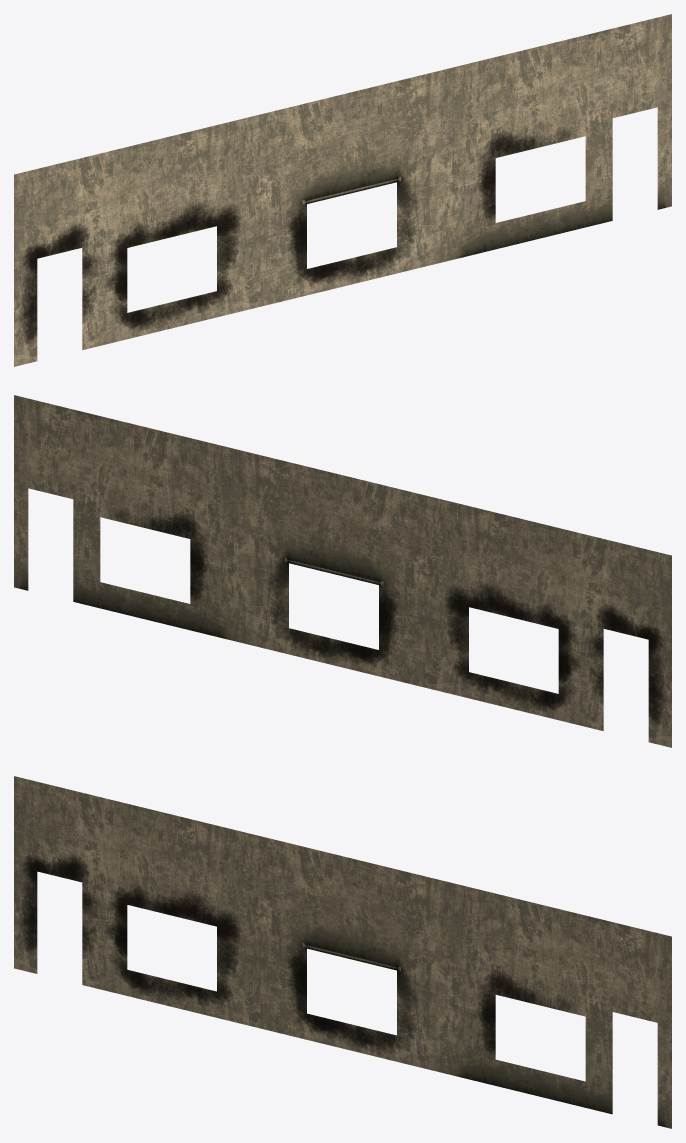
File: ExtWall.FBX
The picture shows the model from 3 angles, top to bottom: view 1: azimuth 30°, elevation 25°; view 2: azimuth 150°, elevation 25°; view 3: azimuth 330°, elevation 25°; orthographic projection.
Parts seen in each view (by area): view 1: ExtWall; view 2: ExtWall; view 3: ExtWall.
Boxes of the visible parts, x1,y1,x2,y2 form: ExtWall: (14,14,671,366); ExtWall: (14,395,671,747); ExtWall: (14,776,671,1128).
Bounding box in the file's own units: 1830 × 511 × 0.000122.
